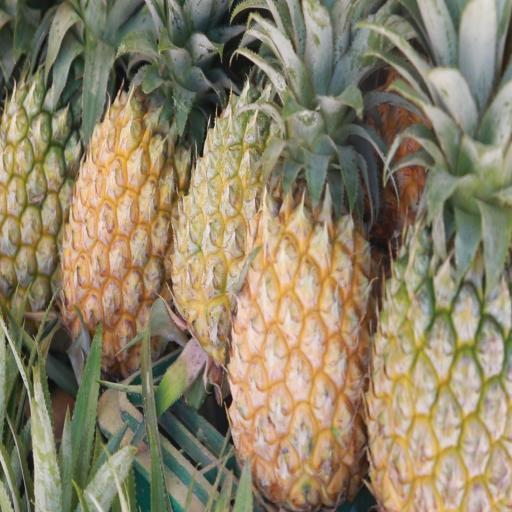------------------------------: (364, 57, 512, 512), (0, 0, 81, 321)
Pineapple - v8 v1: (222, 80, 379, 512), (56, 12, 187, 378), (166, 14, 292, 358)
